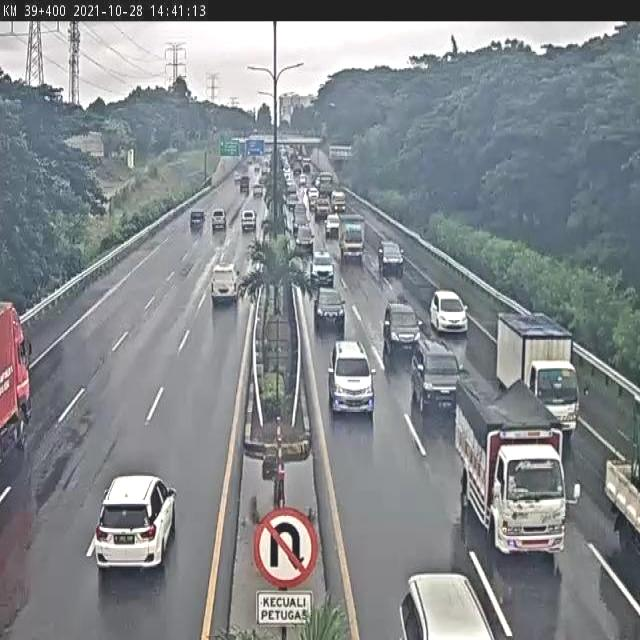Car: (91, 470, 182, 585), (410, 338, 461, 418), (327, 338, 374, 417), (382, 299, 421, 361), (430, 291, 468, 336), (313, 286, 345, 334), (210, 263, 238, 306), (308, 252, 336, 288), (378, 240, 404, 277), (295, 225, 315, 257), (315, 195, 331, 220), (241, 208, 256, 232), (326, 213, 340, 238), (190, 210, 206, 231), (292, 181, 305, 206), (212, 209, 226, 231), (332, 192, 347, 212), (317, 188, 331, 206), (285, 191, 296, 211), (285, 178, 296, 198), (302, 186, 312, 208), (308, 187, 318, 204), (253, 183, 263, 198), (298, 174, 308, 188), (234, 171, 243, 182), (293, 166, 302, 176), (314, 177, 321, 188)
Truck: (456, 374, 574, 556), (496, 313, 580, 437), (0, 303, 31, 465), (603, 456, 640, 578), (338, 216, 366, 264), (316, 172, 333, 193)
Van: (398, 570, 508, 638)
